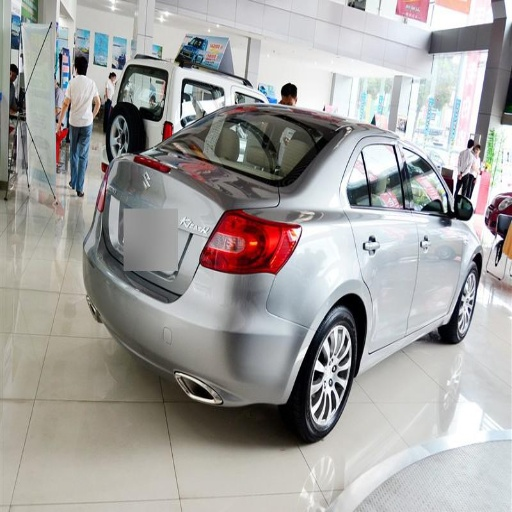back_bumper: (86, 252, 325, 410)
back_right_door: (341, 134, 419, 345)
tailgate: (101, 156, 255, 294)
